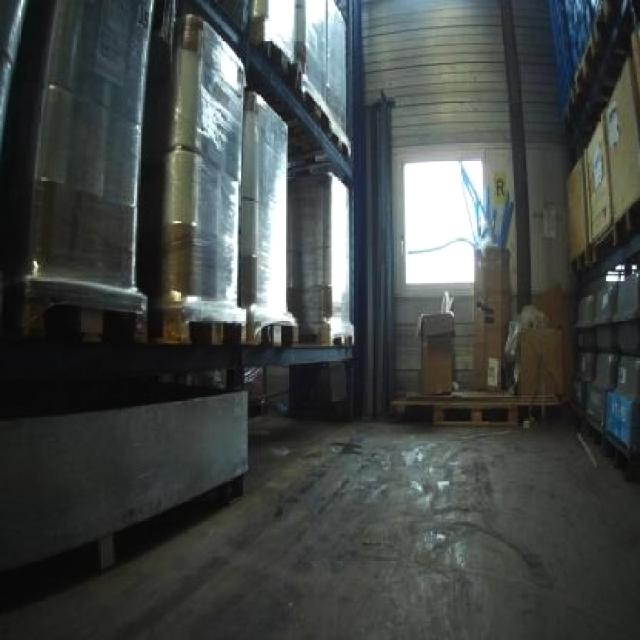floor: (0, 414, 637, 637)
